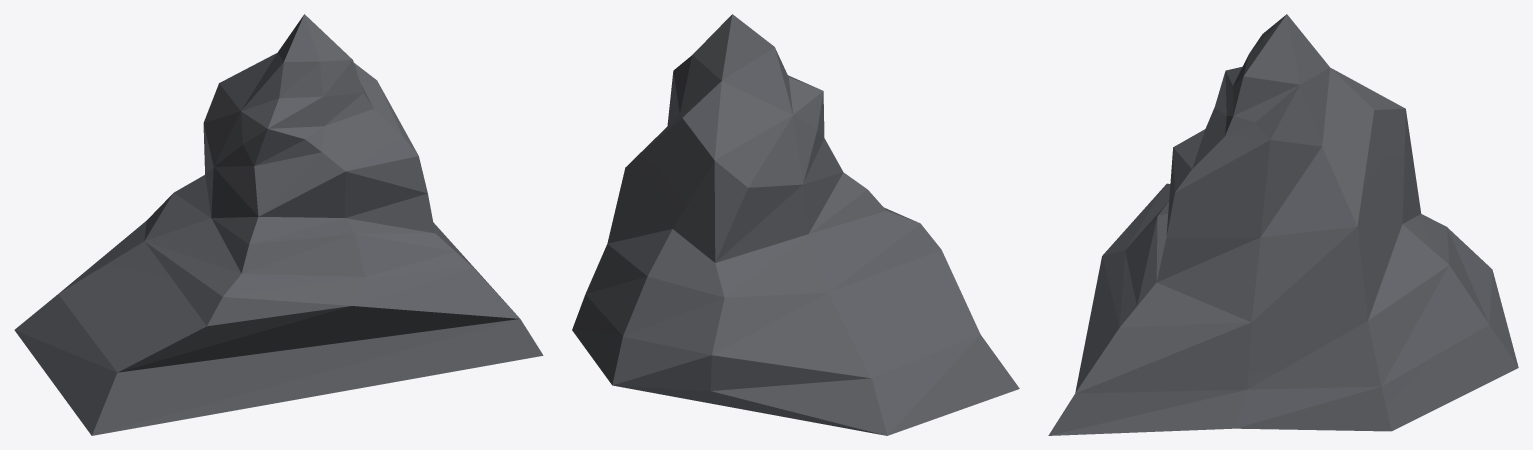
The model's file is batu besar.fbx.
3 renders of one model, left to right at view 1: azimuth 30°, elevation 25°; view 2: azimuth 150°, elevation 25°; view 3: azimuth 270°, elevation 25°, orthographic. The views are drawn at different scales.
Visible parts, largest first — view 1: Landscape_1_1; view 2: Landscape_1_1; view 3: Landscape_1_1.
Part boxes in pixels (x1,y1,x2,y2): Landscape_1_1: (14, 14, 543, 435); Landscape_1_1: (572, 14, 1019, 435); Landscape_1_1: (1048, 14, 1518, 435).
Bounding box in the file's own units: 11246 × 9385 × 10334.
